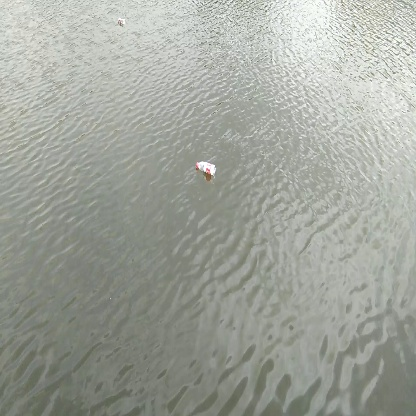bottle: (193, 157, 223, 179)
